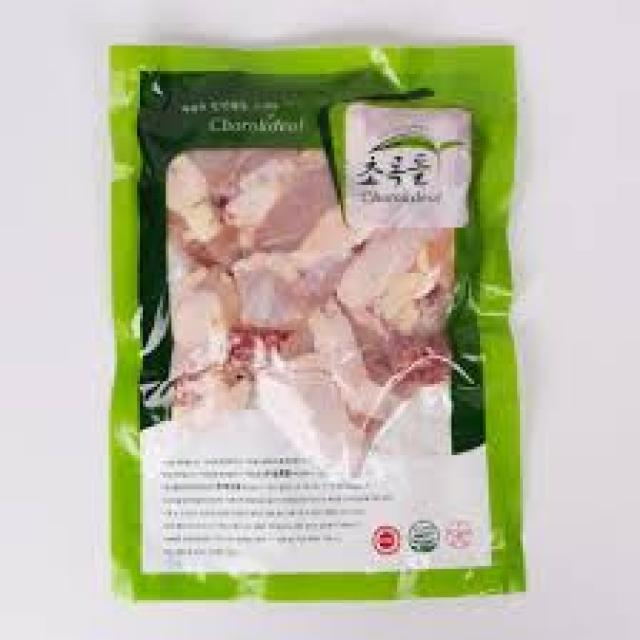chicken: (108, 42, 532, 608)
